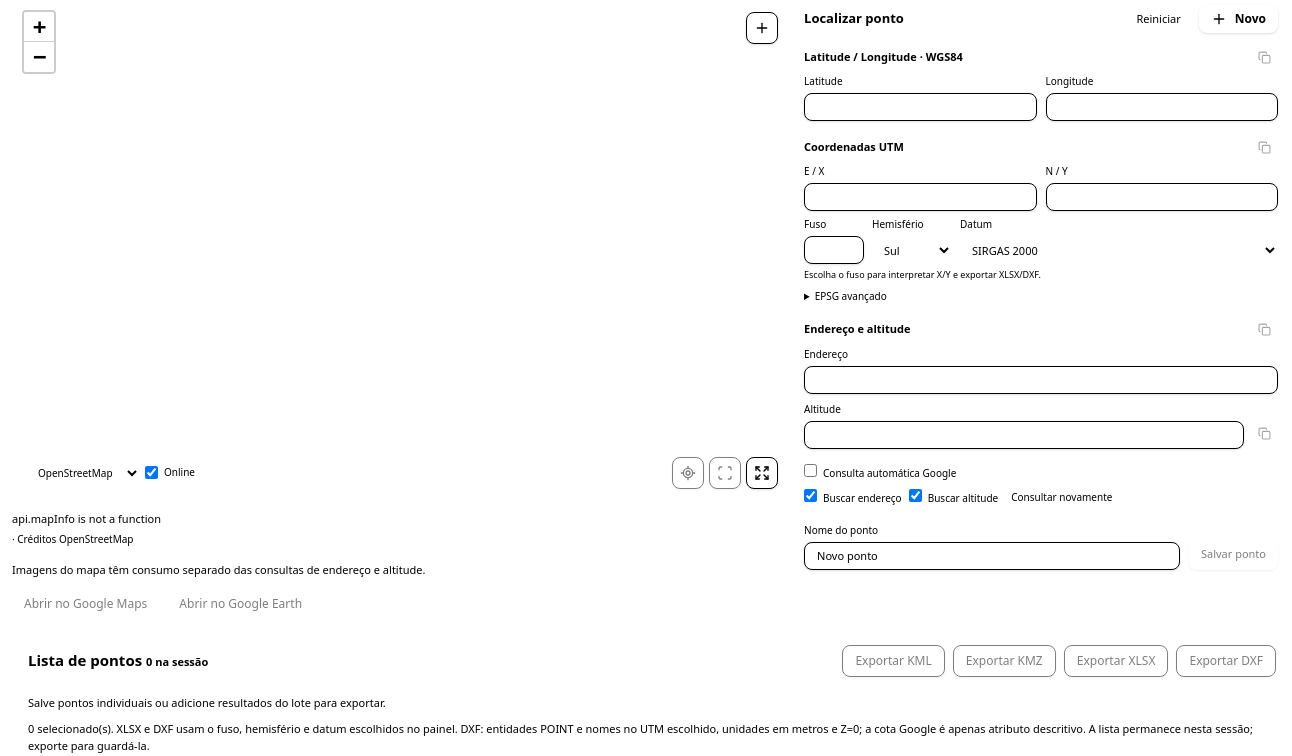
Test: endereço implica uma consulta de geocodificação mesmo com endereço desmarcado
Type "Rua" into the field labelled "Endereço". click: (1041, 380)
box: [804,366,1278,394]
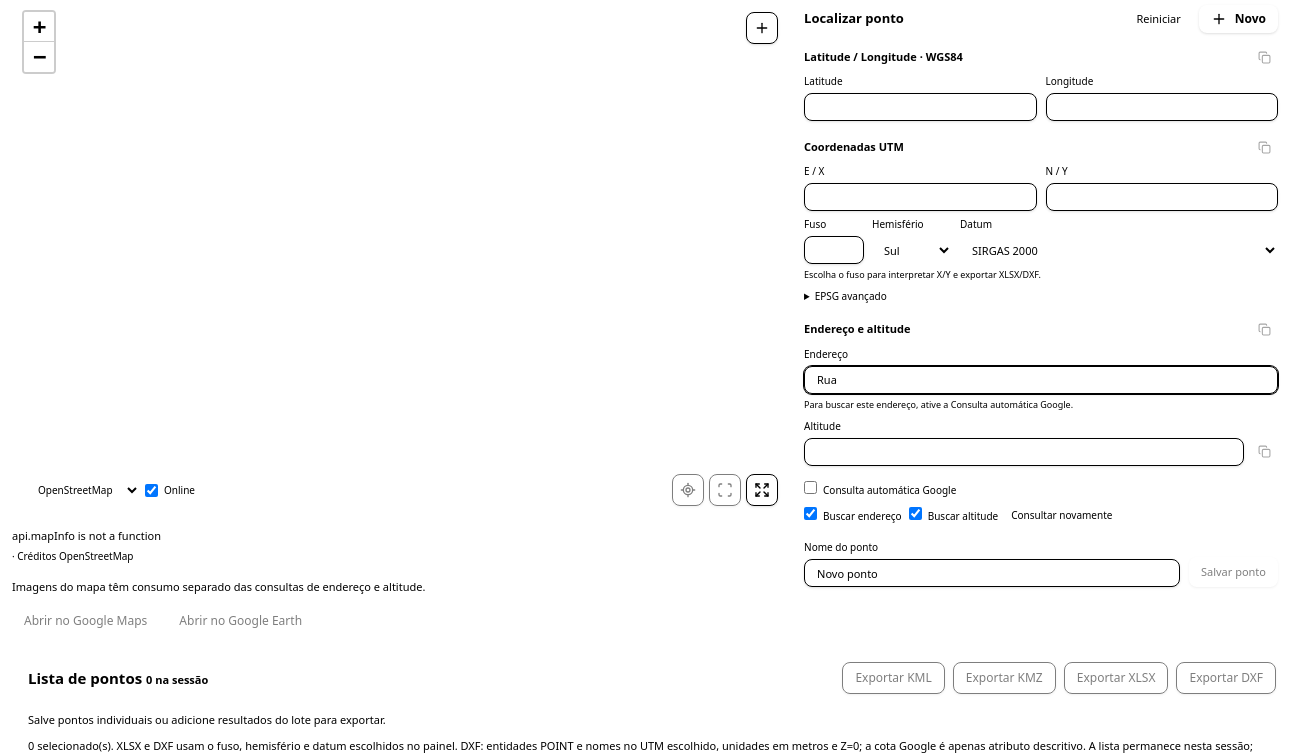
Click the checkbox named "Consultar endereço". click: (810, 513)
box: [804,507,817,520]
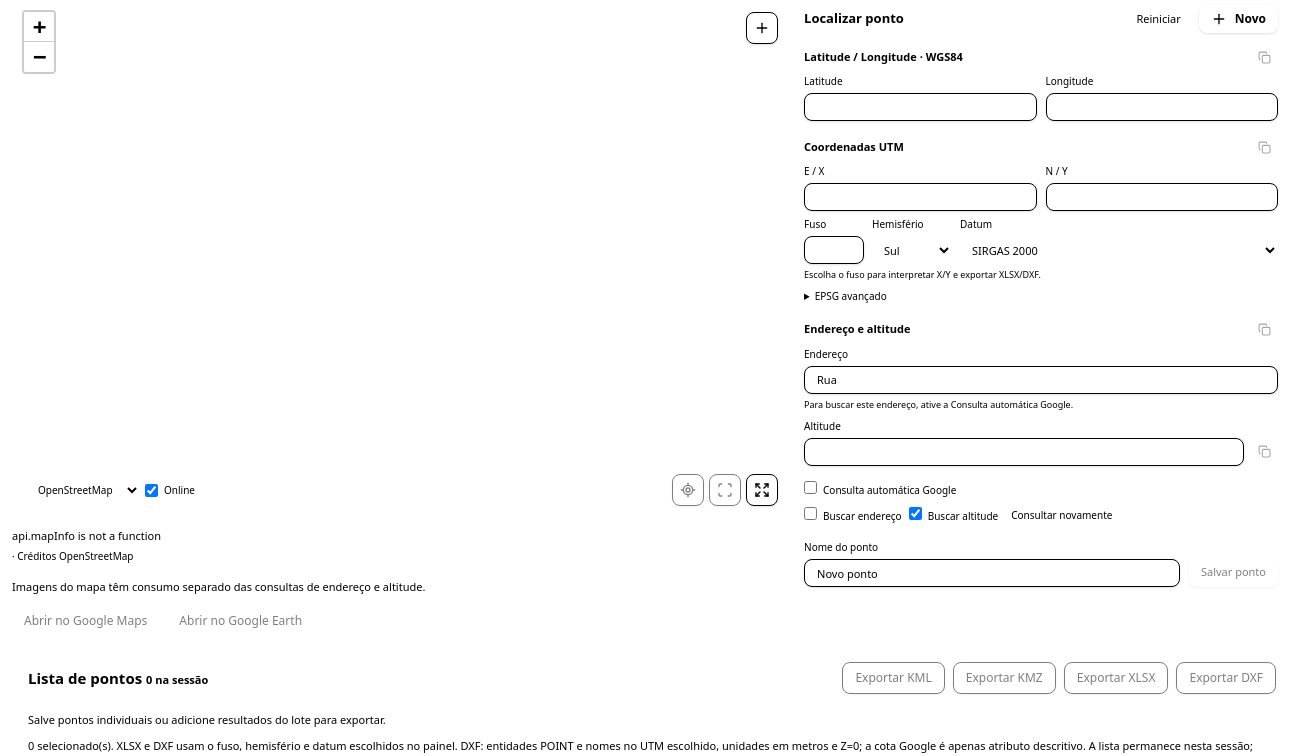
Click the checkbox labelled "Consulta automática Google". click: (810, 488)
box: [804,481,817,494]
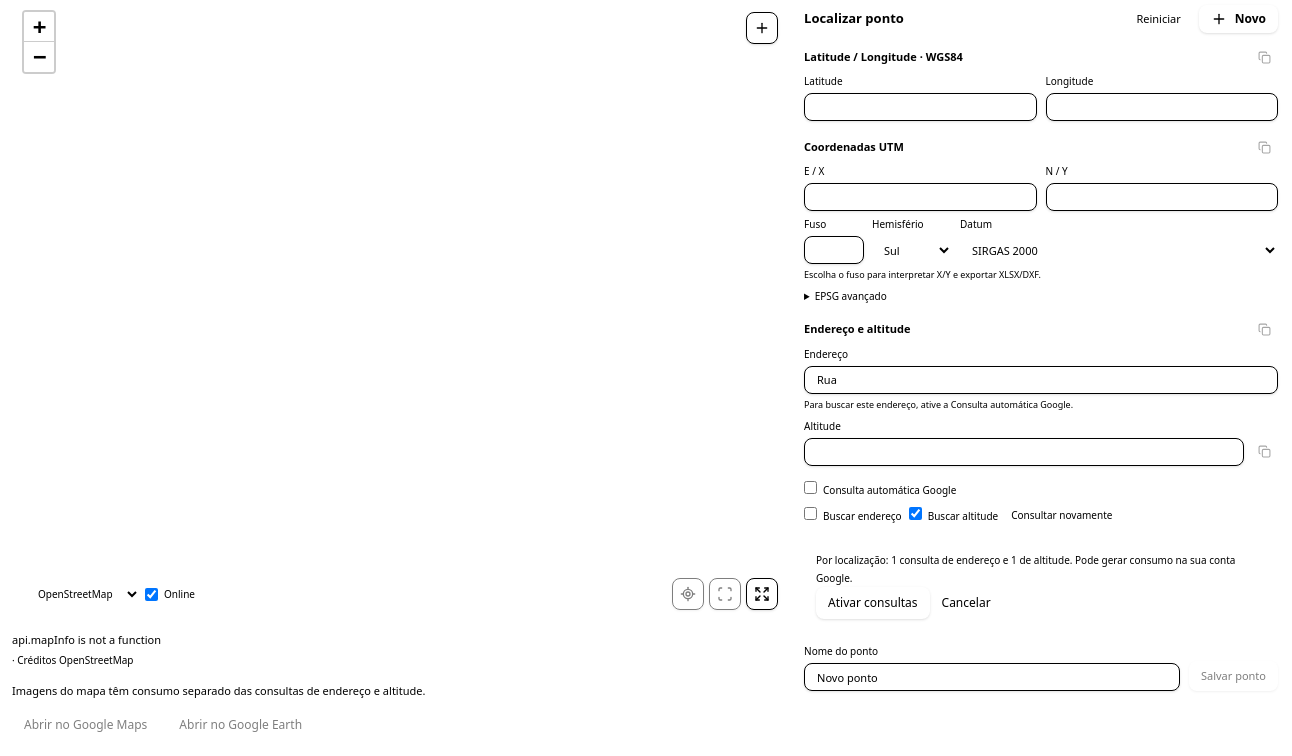
Result: the text "1 consulta de endereço e 1 de altitude" is shown at [816,551,1266,587]
